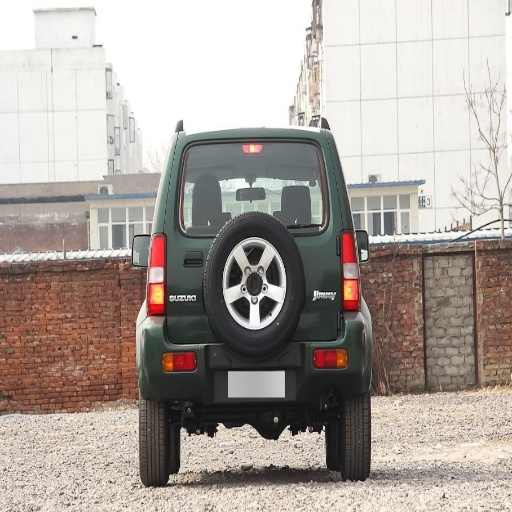trunk: (167, 144, 336, 340)
